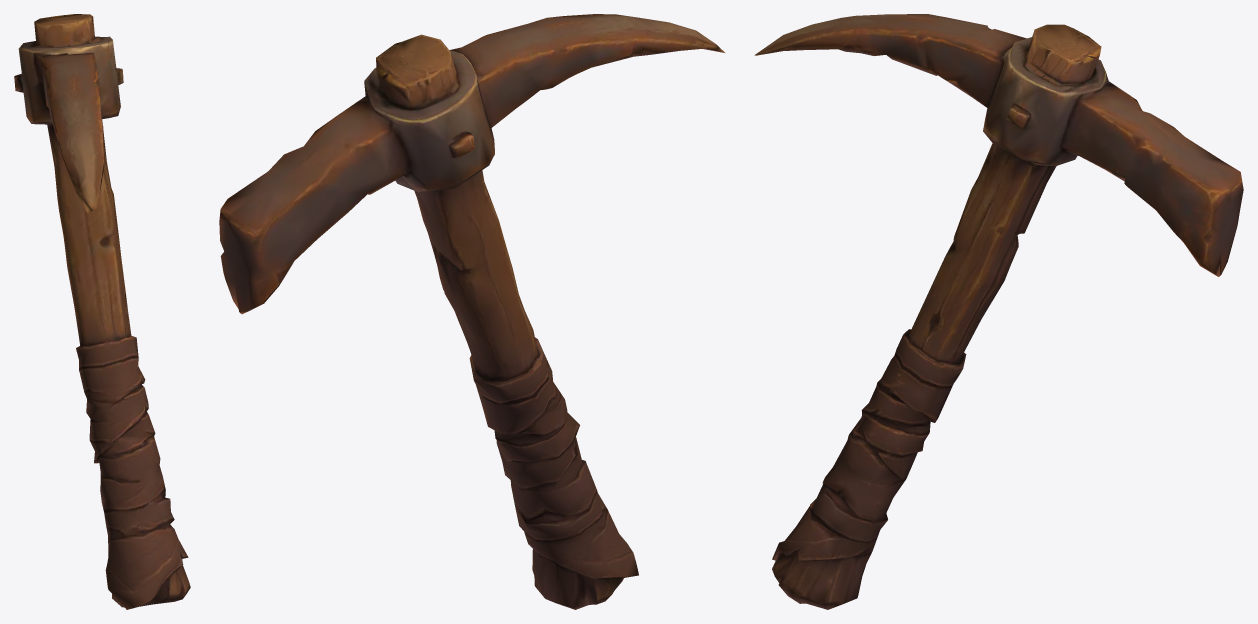
The model's file is model-prop-miner-pick-01.glb.
3 views of the same model, side by side, from view 1: azimuth 30°, elevation 25°; view 2: azimuth 150°, elevation 25°; view 3: azimuth 270°, elevation 25° (orthographic). The views are drawn at different scales.
Parts seen in each view (by area): view 1: tripo_node_58fc2045-9805-4a88-9fca-5b8182860d5a; view 2: tripo_node_58fc2045-9805-4a88-9fca-5b8182860d5a; view 3: tripo_node_58fc2045-9805-4a88-9fca-5b8182860d5a.
Part boxes in pixels (box(x1,y1,x2,y2)): tripo_node_58fc2045-9805-4a88-9fca-5b8182860d5a: box(14, 14, 190, 609); tripo_node_58fc2045-9805-4a88-9fca-5b8182860d5a: box(219, 14, 724, 609); tripo_node_58fc2045-9805-4a88-9fca-5b8182860d5a: box(754, 14, 1243, 609).
Bounding box in the file's own units: 0.2089 × 0.5 × 0.381.
1 material, 1 textured.
